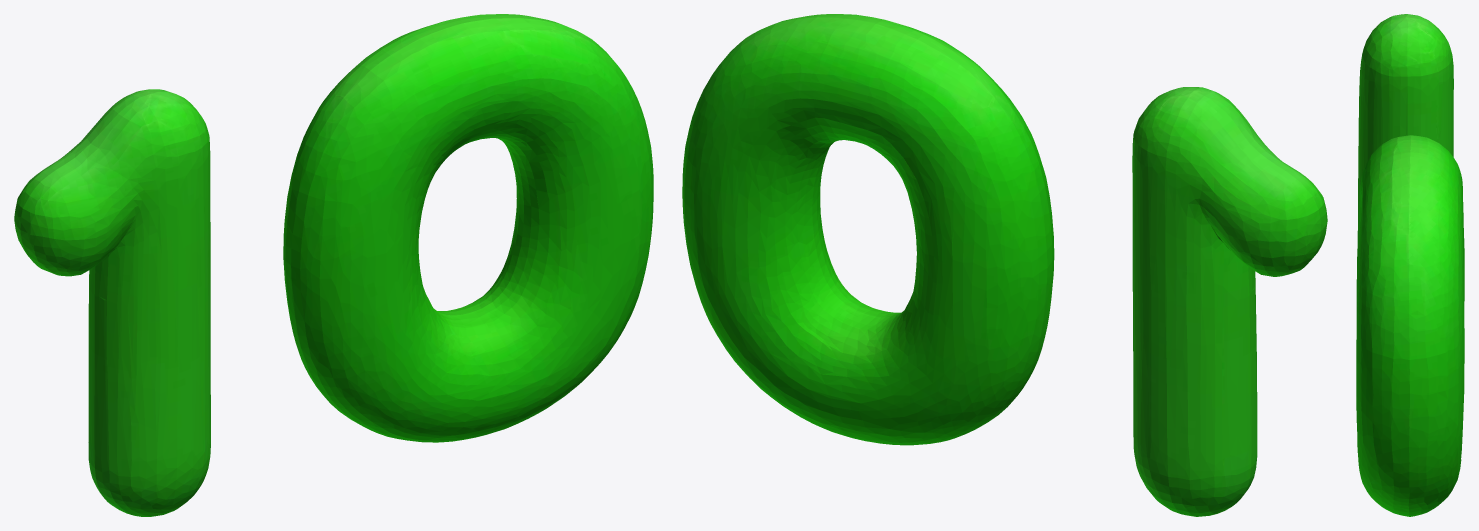
3 views of the same model, side by side, from view 1: azimuth 30°, elevation 25°; view 2: azimuth 150°, elevation 25°; view 3: azimuth 270°, elevation 25° (orthographic). The views are drawn at different scales.
Parts seen in each view (by area): view 1: geometry_0; view 2: geometry_0; view 3: geometry_0.
Part boxes in pixels (x1=…): geometry_0: x1=14, y1=14, x2=653, y2=516; geometry_0: x1=682, y1=14, x2=1327, y2=516; geometry_0: x1=1356, y1=14, x2=1464, y2=516.
Size of the model in its own units: 0.9986 by 0.6381 by 0.1789.
Materials: 1 (1 with a texture image).
